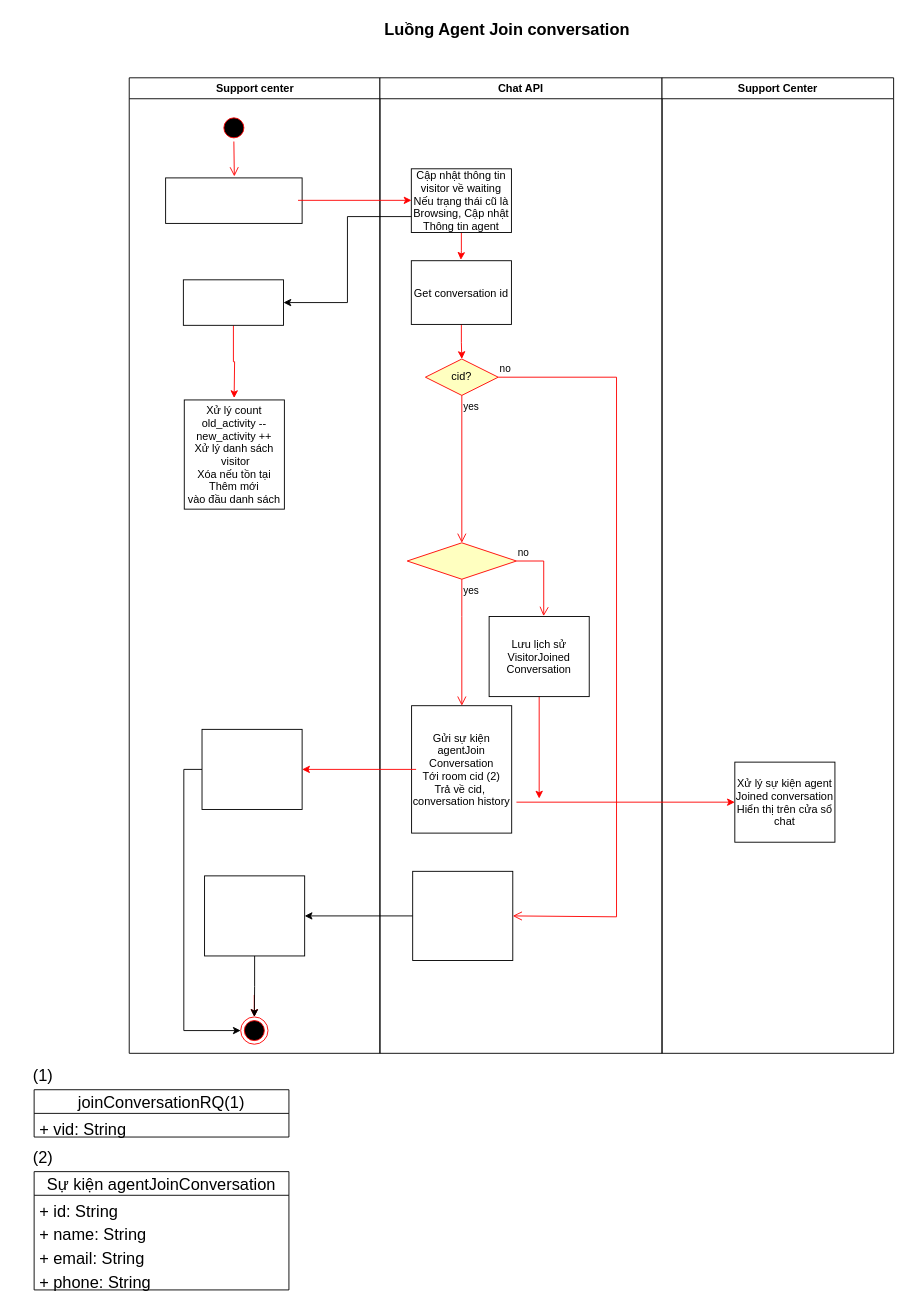
Some shapes in this 909 by 1308 pixel diagram are drawn without their labels. The centre of each missing label's shape, as x and y in pixels:
Cập nhật agent = null Trả về cid=null Cập nhật trạng thái về left: the point at 462,915
Gọi API Join Conversation (1): the point at 233,200
hasAgent: the point at 461,560
Join client to cid, Hiển thị lịch sử: the point at 251,768
Nhận sự kiện cập nhật visitor: the point at 232,302
Trở về trang chatting Bỏ chọn visitor: the point at 254,915
